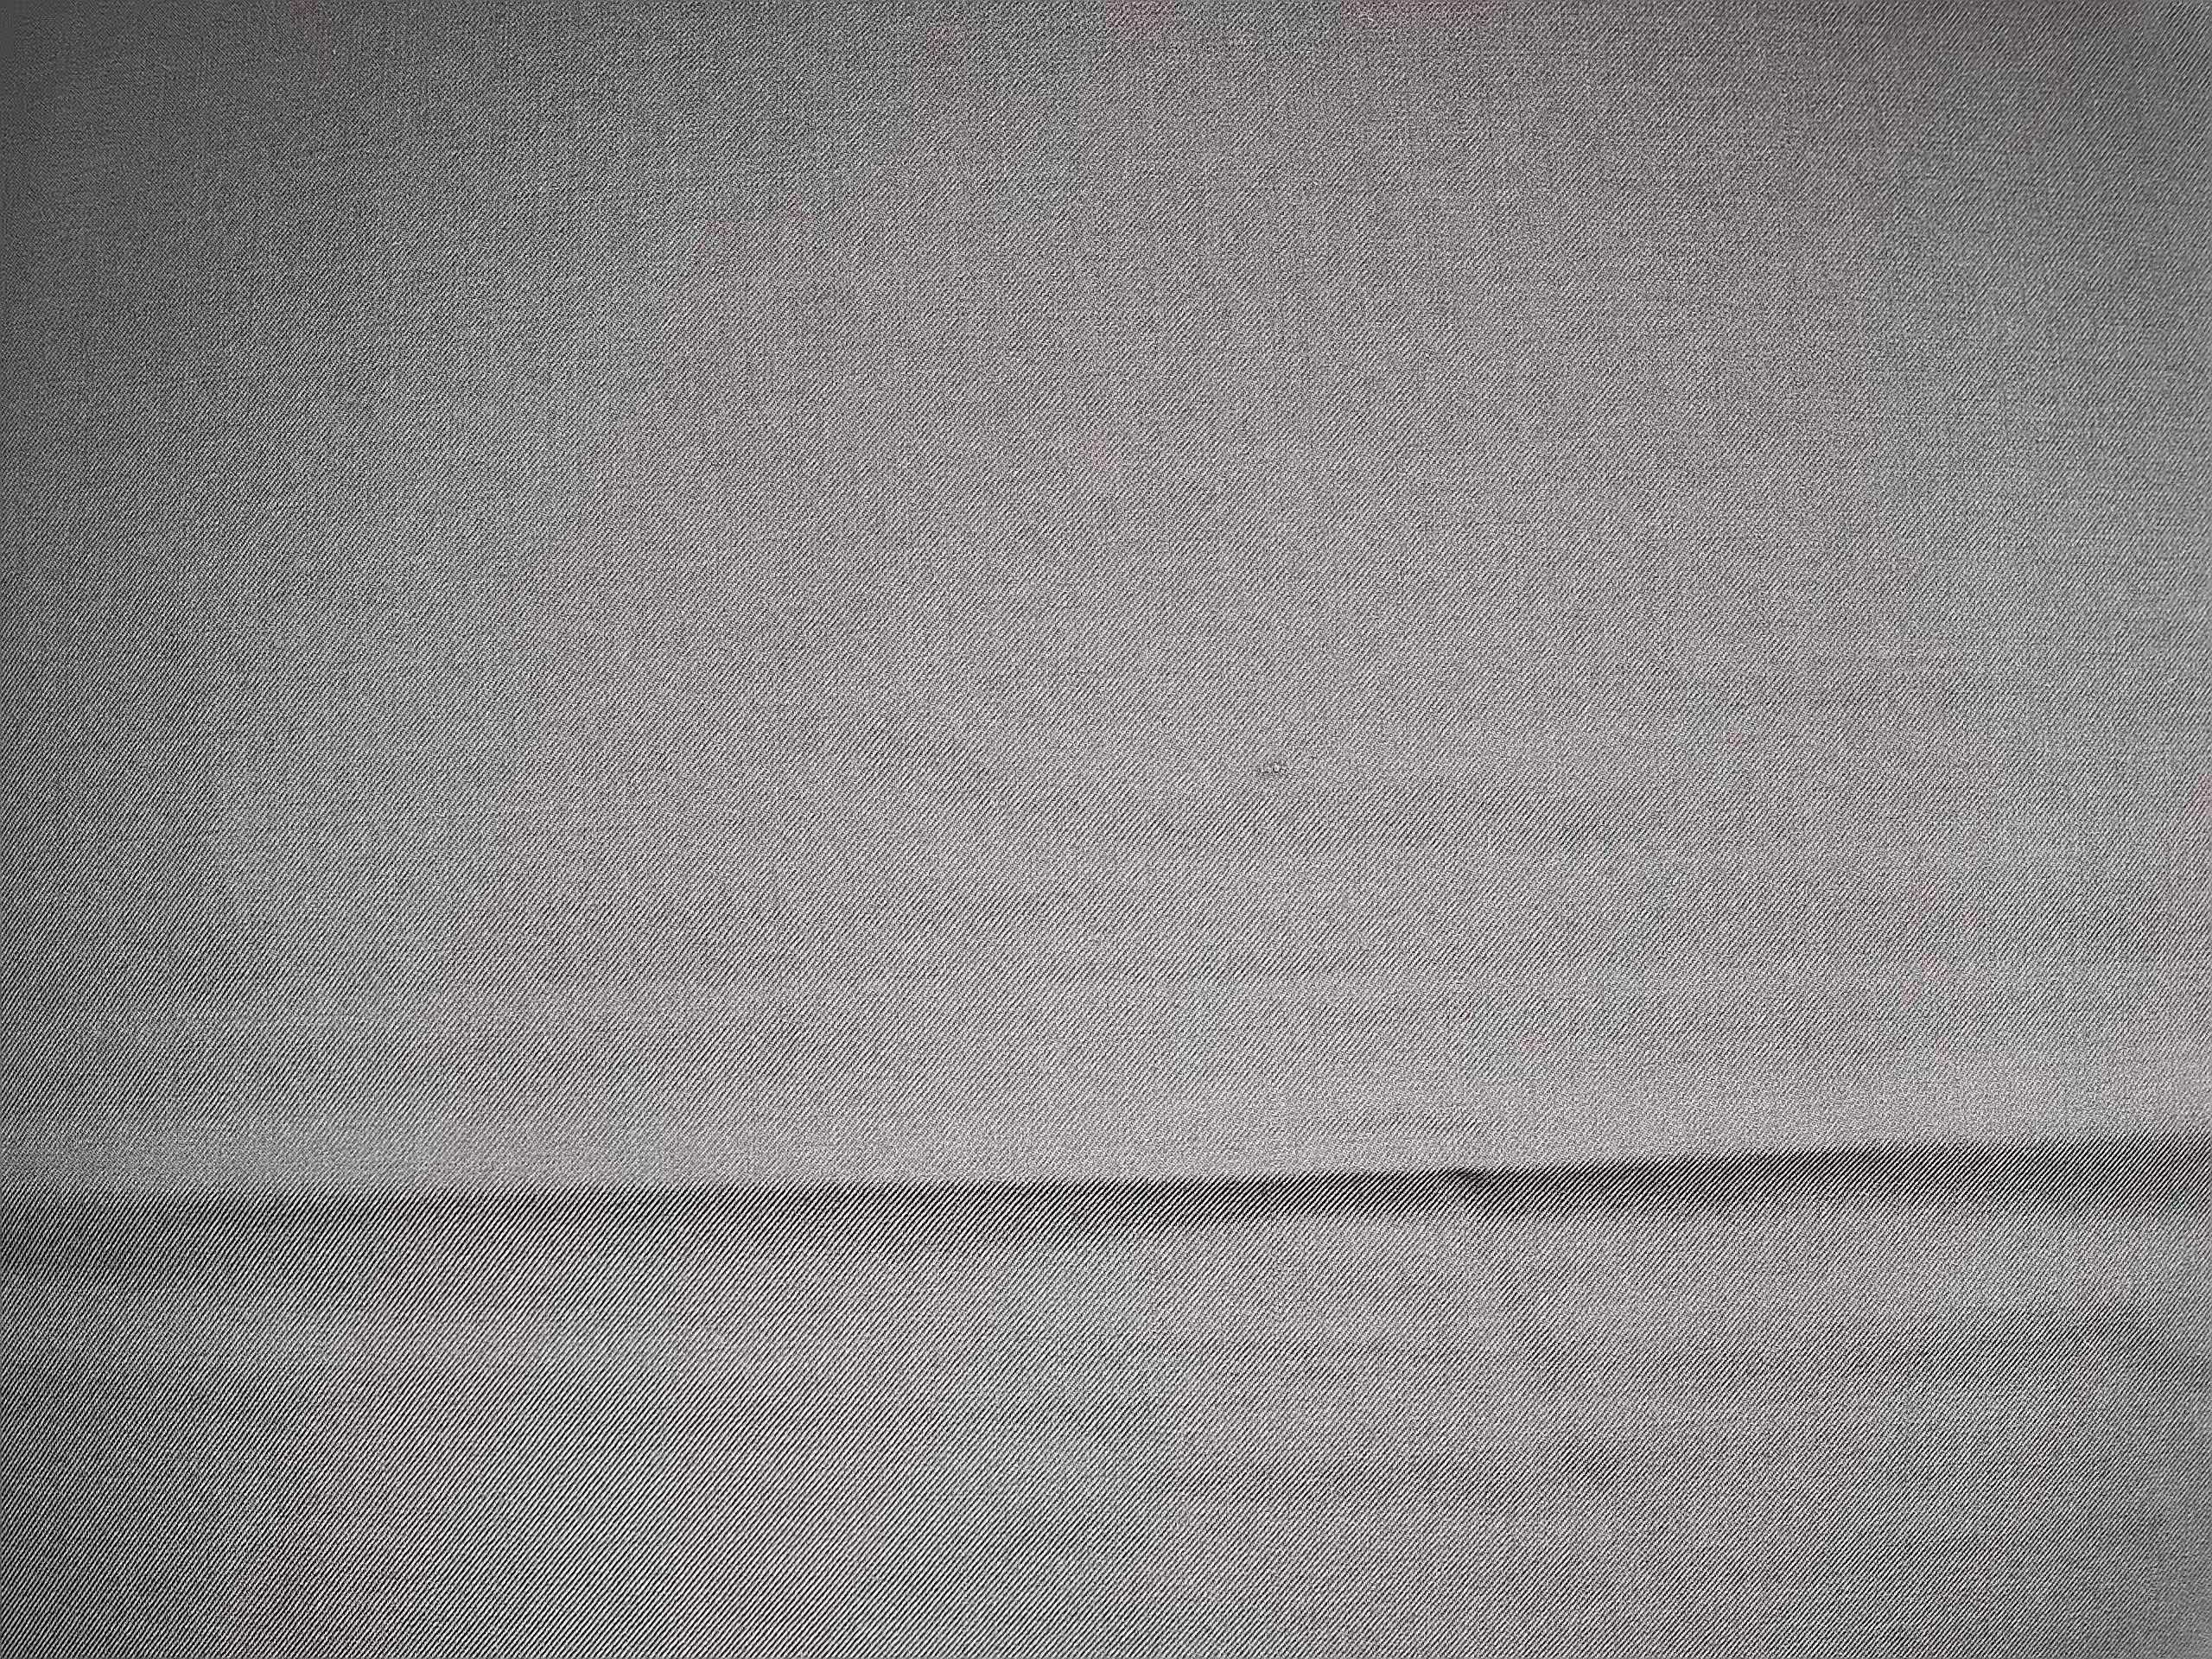others: (1238, 741, 1303, 798)
